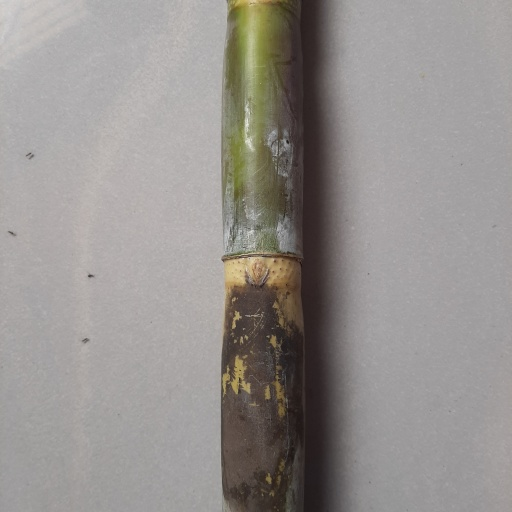Bud: (246, 257, 270, 288)
